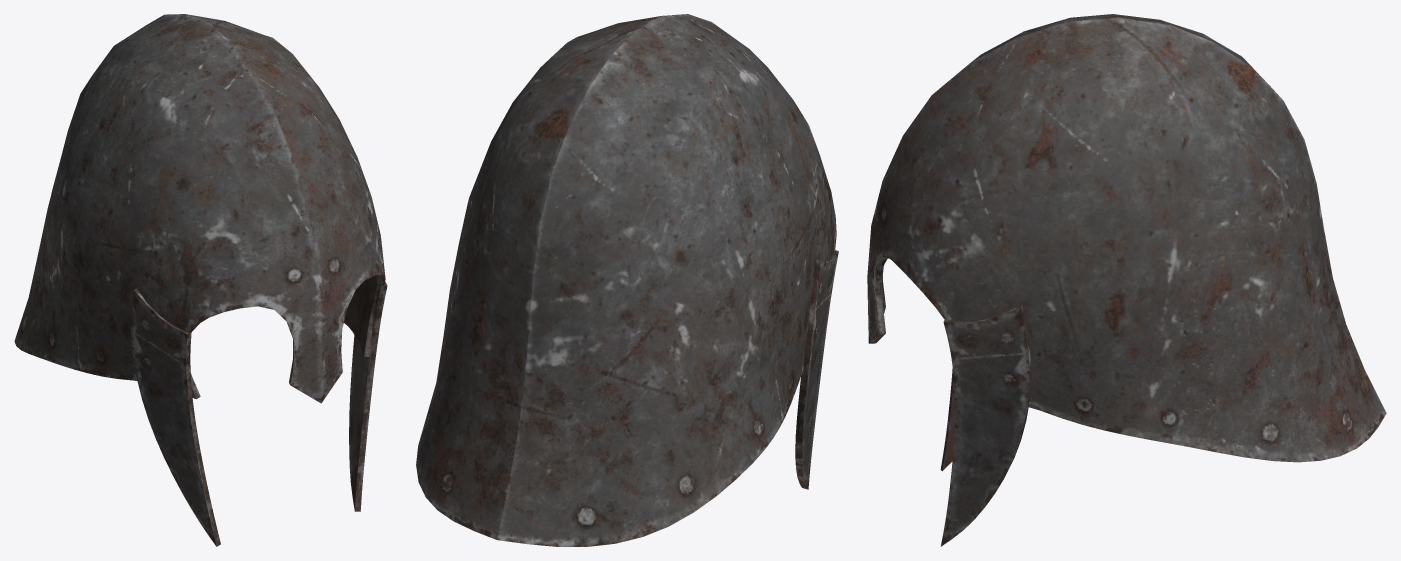
The model's file is sk_gb_uruk_helmet_med_b.fbx.
The picture shows the model from 3 angles, left to right: view 1: azimuth 30°, elevation 25°; view 2: azimuth 150°, elevation 25°; view 3: azimuth 270°, elevation 25°; orthographic projection. The views are drawn at different scales.
Visible parts, largest first — view 1: sk_gb_uruk_helmet_med_b; view 2: sk_gb_uruk_helmet_med_b; view 3: sk_gb_uruk_helmet_med_b.
Part boxes in pixels (x1=…): sk_gb_uruk_helmet_med_b: x1=14, y1=14, x2=387, y2=546; sk_gb_uruk_helmet_med_b: x1=416, y1=14, x2=838, y2=546; sk_gb_uruk_helmet_med_b: x1=867, y1=14, x2=1386, y2=546.
Size of the model in its own units: 0.2034 by 0.3051 by 0.3181.
1 material, 1 textured.
